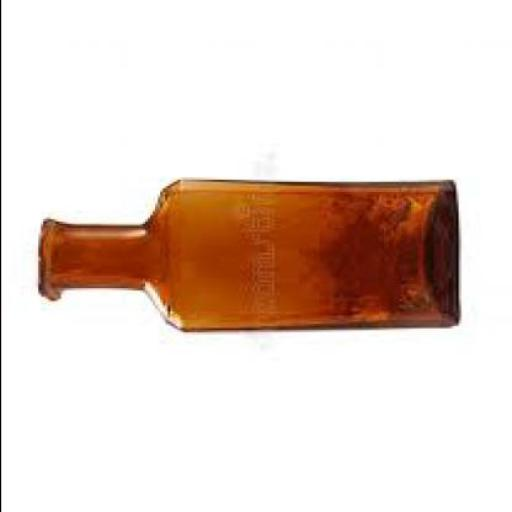glass: (32, 179, 455, 337)
